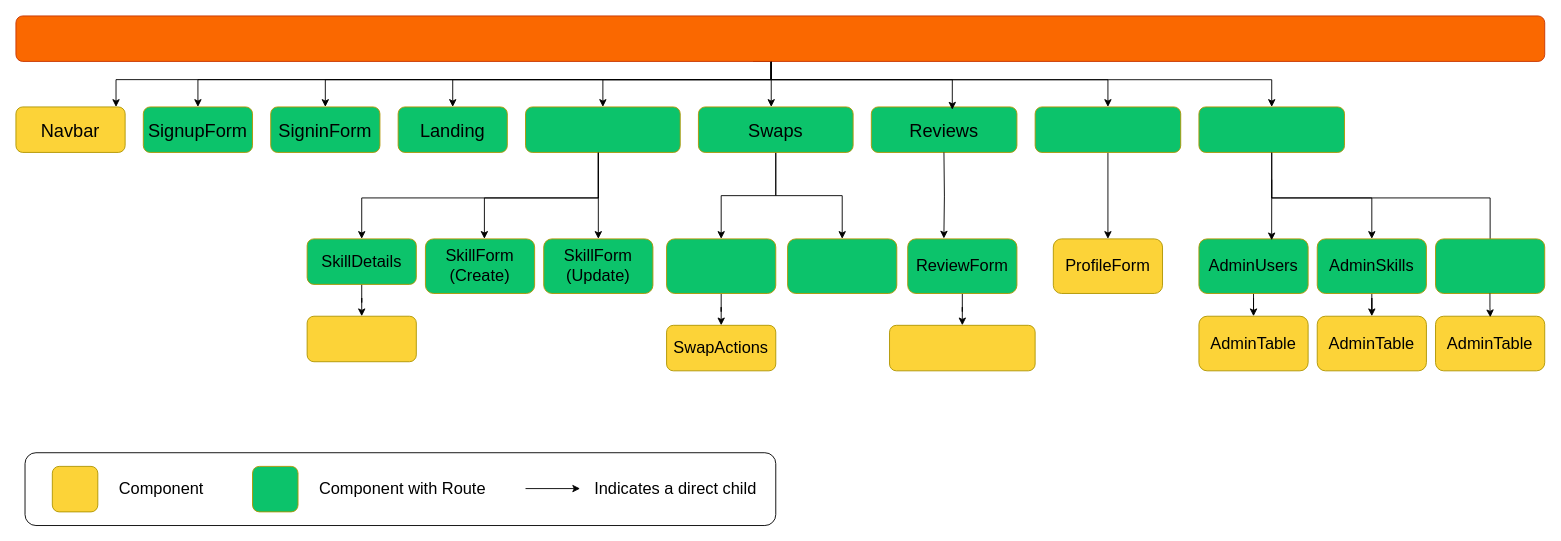
The diagram is 1561 pixels wide and 541 high, and some of its shapes have lost their labels. The shapes that lost their labels are listed below. From the top down, each one's box as (x1, y1, x2, y2) in pixels, then its label:
(15, 15, 1545, 61): App
(525, 106, 680, 152): Skills
(1034, 106, 1181, 152): Profile
(1198, 106, 1345, 152): Admin
(666, 238, 776, 293): SwapDetails
(787, 238, 897, 293): SwapForm (Create)
(1435, 238, 1545, 293): AdminReviews
(306, 315, 416, 362): ReviewList
(889, 324, 1035, 371): ReviewFormField s
